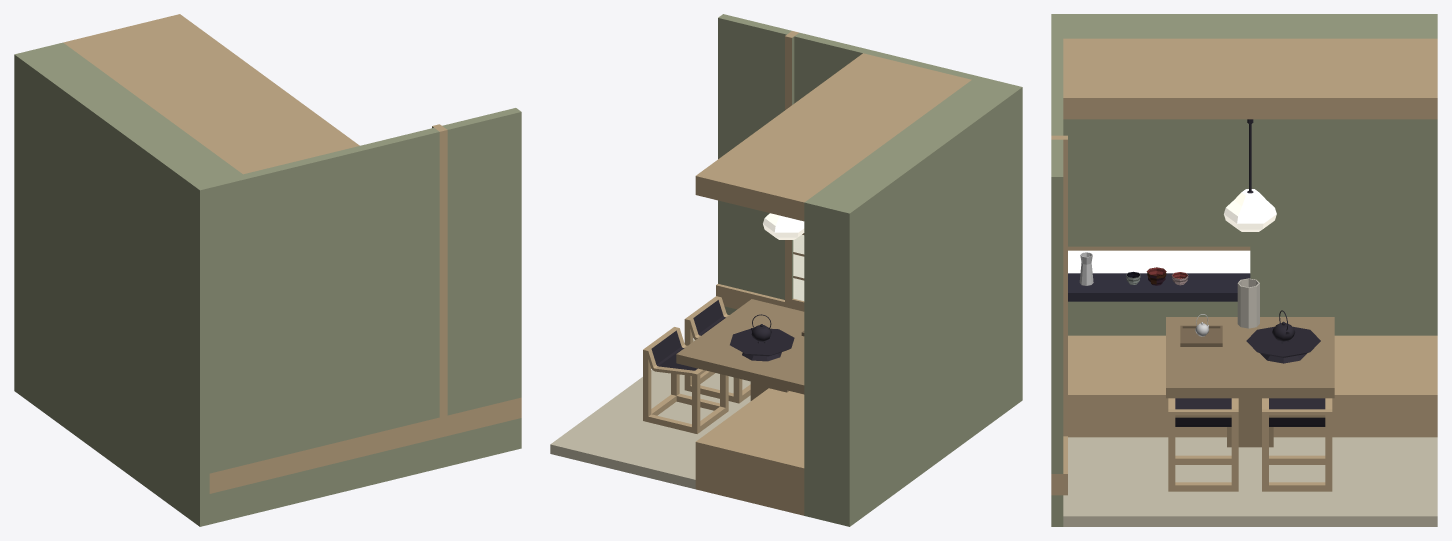
The picture shows the model from 3 angles, left to right: view 1: azimuth 30°, elevation 25°; view 2: azimuth 150°, elevation 25°; view 3: azimuth 270°, elevation 25°; orthographic projection. The views are drawn at different scales.
Visible parts, largest first — view 1: WallLeft, WallRight, LowCeil, ShelfWall, TopShelf; view 2: WallRight, LowCeil, WallLeft, ShelfWall, Floor, HighFloor, TableTop, ChairFar_0, TopShelf, ChairFar, TeaBase, ChairFar_1 (+2 smaller); view 3: ShelfWall, LowCeil, Floor, TopShelf, HighFloor, TableTop, BottomShelf, WallLeft, WallRight, ChairFar, ChairFar_0, Lamp (+5 smaller).
Boxes of the visible parts, x1,y1,x2,y2 form: WallLeft: (204,108,521,524); WallRight: (14,52,209,526); LowCeil: (63,14,359,174); ShelfWall: (24,42,152,117); TopShelf: (114,108,242,183); WallRight: (840,85,1022,526); LowCeil: (695,53,971,221); WallLeft: (716,14,1013,314); ShelfWall: (804,141,923,514); Floor: (550,339,840,524); HighFloor: (695,388,804,506); TableTop: (676,299,804,394); ChairFar_0: (643,327,728,433); TopShelf: (888,80,1007,149); ChairFar: (684,296,750,403); TeaBase: (730,328,794,361); ChairFar_1: (651,330,697,370); ShelfWall: (1250,19,1437,335); LowCeil: (1063,38,1437,119); Floor: (1063,437,1437,526); TopShelf: (1063,19,1250,250); HighFloor: (1068,335,1437,437); TableTop: (1166,317,1334,398); BottomShelf: (1068,273,1250,335); WallLeft: (1051,19,1067,526); WallRight: (1051,14,1437,273); ChairFar: (1168,398,1238,491); ChairFar_0: (1262,398,1332,491); Lamp: (1224,119,1276,231).
Bounding box in the file's own units: 8.25 × 8.25 × 8.25.
